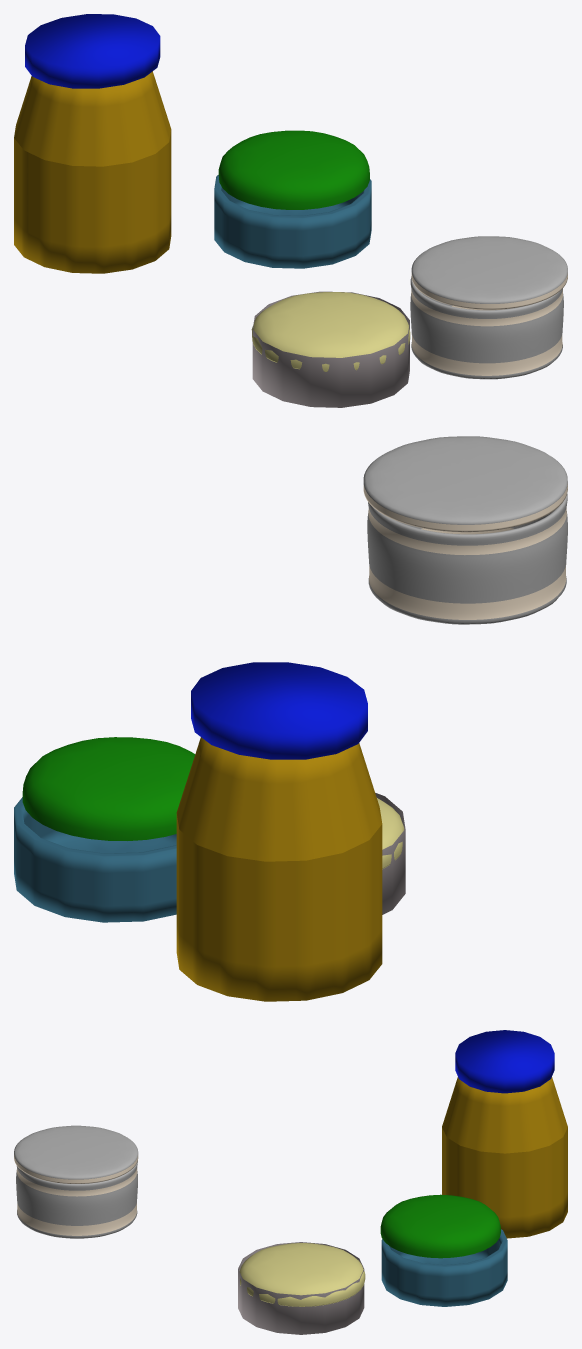
File: containers.fbx
3 renders of one model, top to bottom at view 1: azimuth 30°, elevation 25°; view 2: azimuth 150°, elevation 25°; view 3: azimuth 270°, elevation 25°, orthographic. The views are drawn at different scales.
Parts seen in each view (by area): view 1: Cylinder, Cylinder.003, Circle.001, Cylinder.001, Circle.003, Circle.002, Circle, Cylinder.002; view 2: Cylinder, Cylinder.003, Circle.003, Circle, Circle.001, Cylinder.001, Cylinder.002, Circle.002; view 3: Cylinder, Cylinder.003, Cylinder.001, Circle.001, Circle.002, Circle.003, Circle, Cylinder.002.
Part boxes in pixels (x1,y1,x2,y2): Cylinder: (14,71,171,273); Cylinder.003: (410,276,563,379); Circle.001: (218,130,369,209); Cylinder.001: (214,175,371,268); Circle.003: (411,236,567,309); Circle.002: (251,292,410,371); Circle: (25,14,160,88); Cylinder.002: (252,291,409,407); Cylinder: (176,737,382,1001); Cylinder.003: (367,494,567,624); Circle.003: (363,436,567,532); Circle: (191,662,367,759); Circle.001: (22,737,195,840); Cylinder.001: (14,797,176,922); Cylinder.002: (375,793,405,914); Circle.002: (377,798,404,869); Cylinder: (442,1077,567,1238); Cylinder.003: (16,1161,137,1238); Cylinder.001: (381,1229,507,1306); Circle.001: (380,1194,500,1258); Circle.002: (239,1243,365,1306); Circle.003: (14,1125,138,1183); Circle: (455,1030,554,1093); Cylinder.002: (238,1242,364,1334).
Size of the model in its own units: 4.36 by 3.71 by 8.79.
